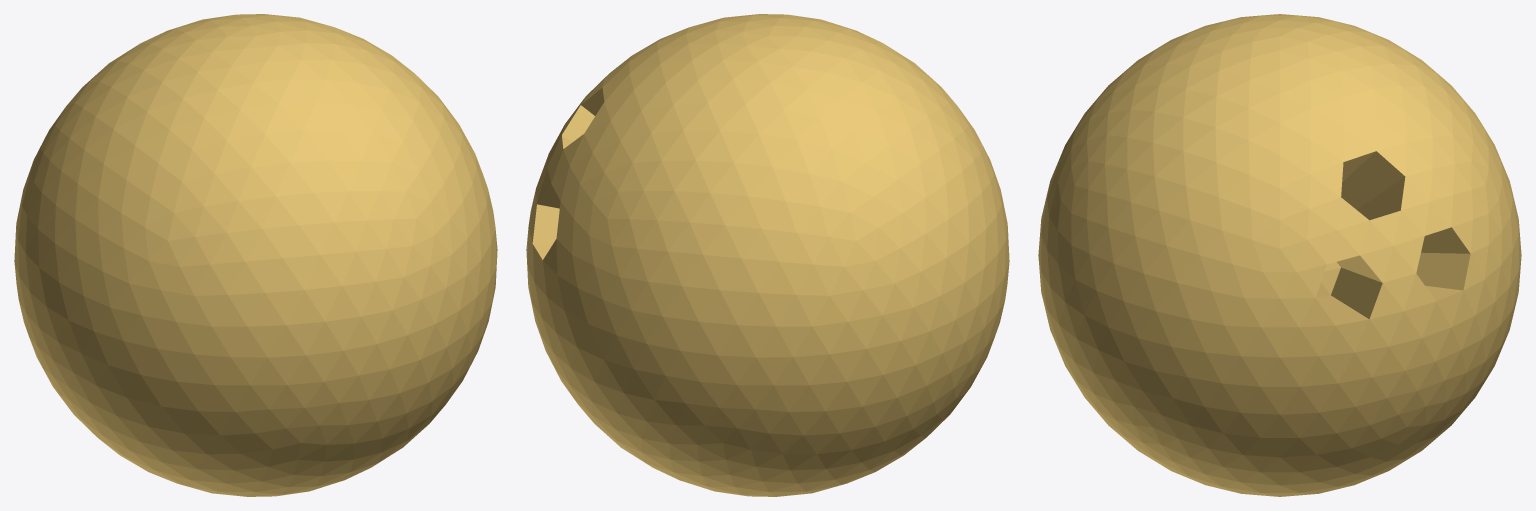
Rendered from bowling-ball.glb.
3 views of the same model, side by side, from view 1: azimuth 30°, elevation 25°; view 2: azimuth 150°, elevation 25°; view 3: azimuth 270°, elevation 25° (orthographic).
Parts seen in each view (by area): view 1: bowling-ball; view 2: bowling-ball; view 3: bowling-ball.
Boxes of the visible parts, x1,y1,x2,y2 form: bowling-ball: (14,14,497,496); bowling-ball: (526,14,1009,496); bowling-ball: (1038,14,1521,496).
Size of the model in its own units: 1 by 1 by 1.
